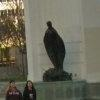Statue: (35, 17, 66, 79)
